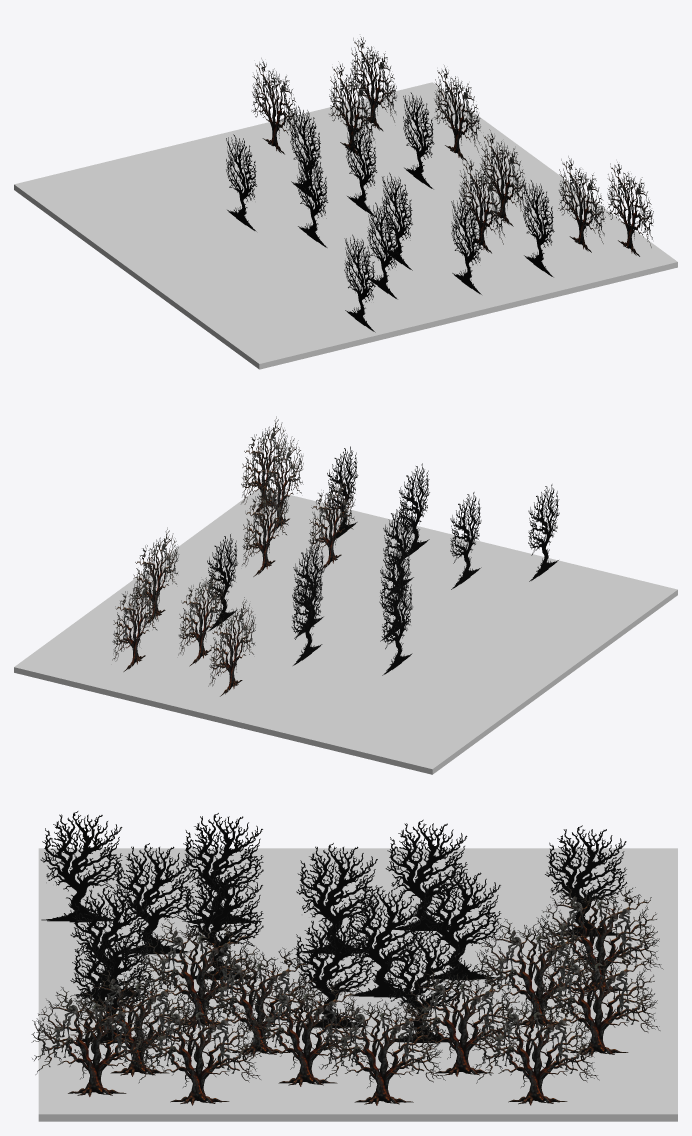
Rendered from Escena.fbx.
3 renders of one model, top to bottom at view 1: azimuth 30°, elevation 25°; view 2: azimuth 150°, elevation 25°; view 3: azimuth 270°, elevation 25°, orthographic. The views are drawn at different scales.
Parts seen in each view (by area): view 1: pCube1, pPlane13, pPlane10, pPlane1, pPlane23, pPlane2, pPlane18, pPlane14, pPlane3, pPlane6, pPlane9, pPlane4 (+7 smaller); view 2: pCube1, pPlane18, pPlane14, pPlane3, pPlane23, pPlane2, pPlane13, pPlane1, pPlane10, pPlane11, pPlane17, pPlane6 (+7 smaller); view 3: pCube1, pPlane22, pPlane7, pPlane19, pPlane10, pPlane18, pPlane8, pPlane13, pPlane23, pPlane14, pPlane2, pPlane3 (+14 smaller).
Part boxes in pixels (box(x1,y1,x2,y2)): pCube1: box(14, 82, 677, 369); pPlane13: box(434, 65, 480, 161); pPlane10: box(606, 162, 653, 256); pPlane1: box(558, 156, 605, 252); pPlane23: box(251, 58, 298, 154); pPlane2: box(459, 156, 505, 253); pPlane18: box(350, 36, 396, 131); pPlane14: box(329, 61, 376, 156); pPlane3: box(480, 129, 526, 226); pPlane6: box(367, 202, 398, 299); pPlane9: box(523, 180, 554, 277); pPlane4: box(451, 197, 482, 294); pCube1: box(14, 489, 677, 774); pPlane18: box(112, 573, 159, 671); pPlane14: box(178, 568, 225, 666); pPlane3: box(242, 478, 289, 576); pPlane23: box(208, 597, 255, 696); pPlane2: box(308, 472, 355, 570); pPlane13: box(132, 527, 179, 625); pPlane1: box(256, 436, 303, 533); pPlane10: box(241, 416, 288, 515); pPlane11: box(528, 484, 559, 581); pPlane17: box(291, 568, 323, 665); pPlane6: box(450, 492, 481, 589); pCube1: box(38, 848, 677, 1121); pPlane22: box(318, 995, 445, 1105); pPlane7: box(134, 995, 260, 1105); pPlane19: box(472, 995, 599, 1105); pPlane10: box(31, 987, 158, 1096); pPlane18: box(533, 946, 660, 1056); pPlane8: box(242, 976, 368, 1086); pPlane13: box(398, 966, 524, 1076); pPlane23: box(536, 884, 663, 992); pPlane14: box(475, 918, 602, 1028); pPlane2: box(137, 918, 259, 1028); pPlane3: box(195, 946, 321, 1056).
Size of the model in its own units: 21.66 by 4.93 by 22.85.
